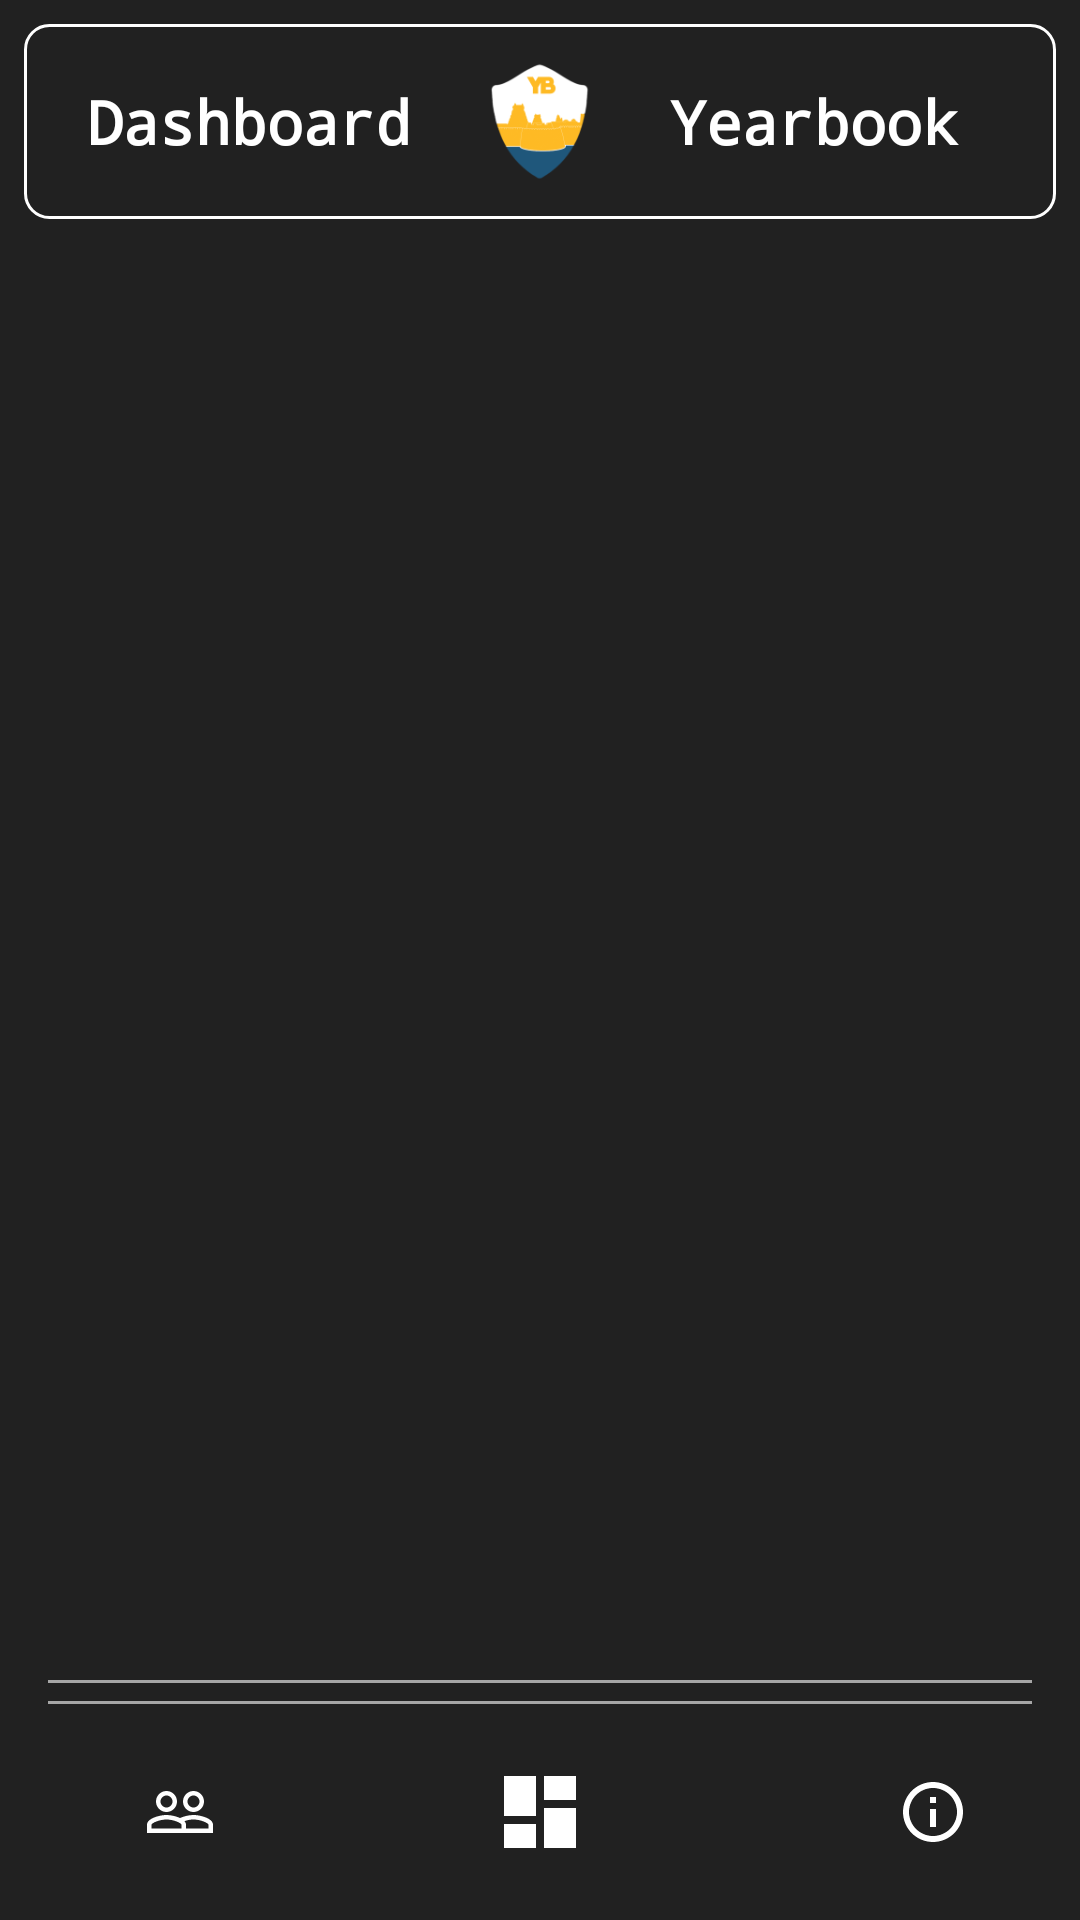

Icons on this 1080 × 1920 Android screen, each with the point to tap as (x=x, y=y):
dashboard: (x=540, y=1812)
info: (x=933, y=1812)
people: (x=180, y=1812)
